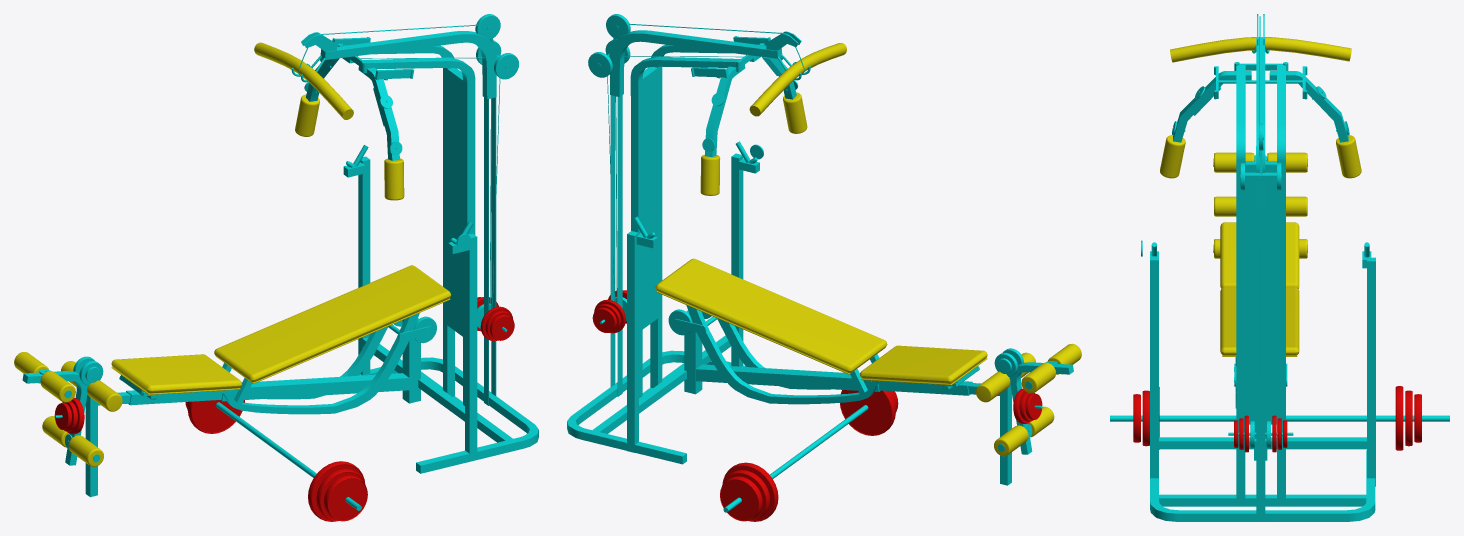
File: WeightliftingBench.fbx
The picture shows the model from 3 angles, left to right: view 1: azimuth 30°, elevation 25°; view 2: azimuth 150°, elevation 25°; view 3: azimuth 270°, elevation 25°; orthographic projection. The views are drawn at different scales.
Parts seen in each view (by area): view 1: GymWeightBench, Weights; view 2: GymWeightBench, Weights; view 3: GymWeightBench, Weights.
Boxes of the visible parts, bbox=[...] form: GymWeightBench: bbox=[14, 14, 538, 497]; Weights: bbox=[185, 400, 367, 521]; GymWeightBench: bbox=[567, 14, 1081, 485]; Weights: bbox=[720, 390, 898, 521]; GymWeightBench: bbox=[1141, 14, 1375, 521]; Weights: bbox=[1110, 386, 1449, 450].
Size of the model in its own units: 300 by 261 by 180.
